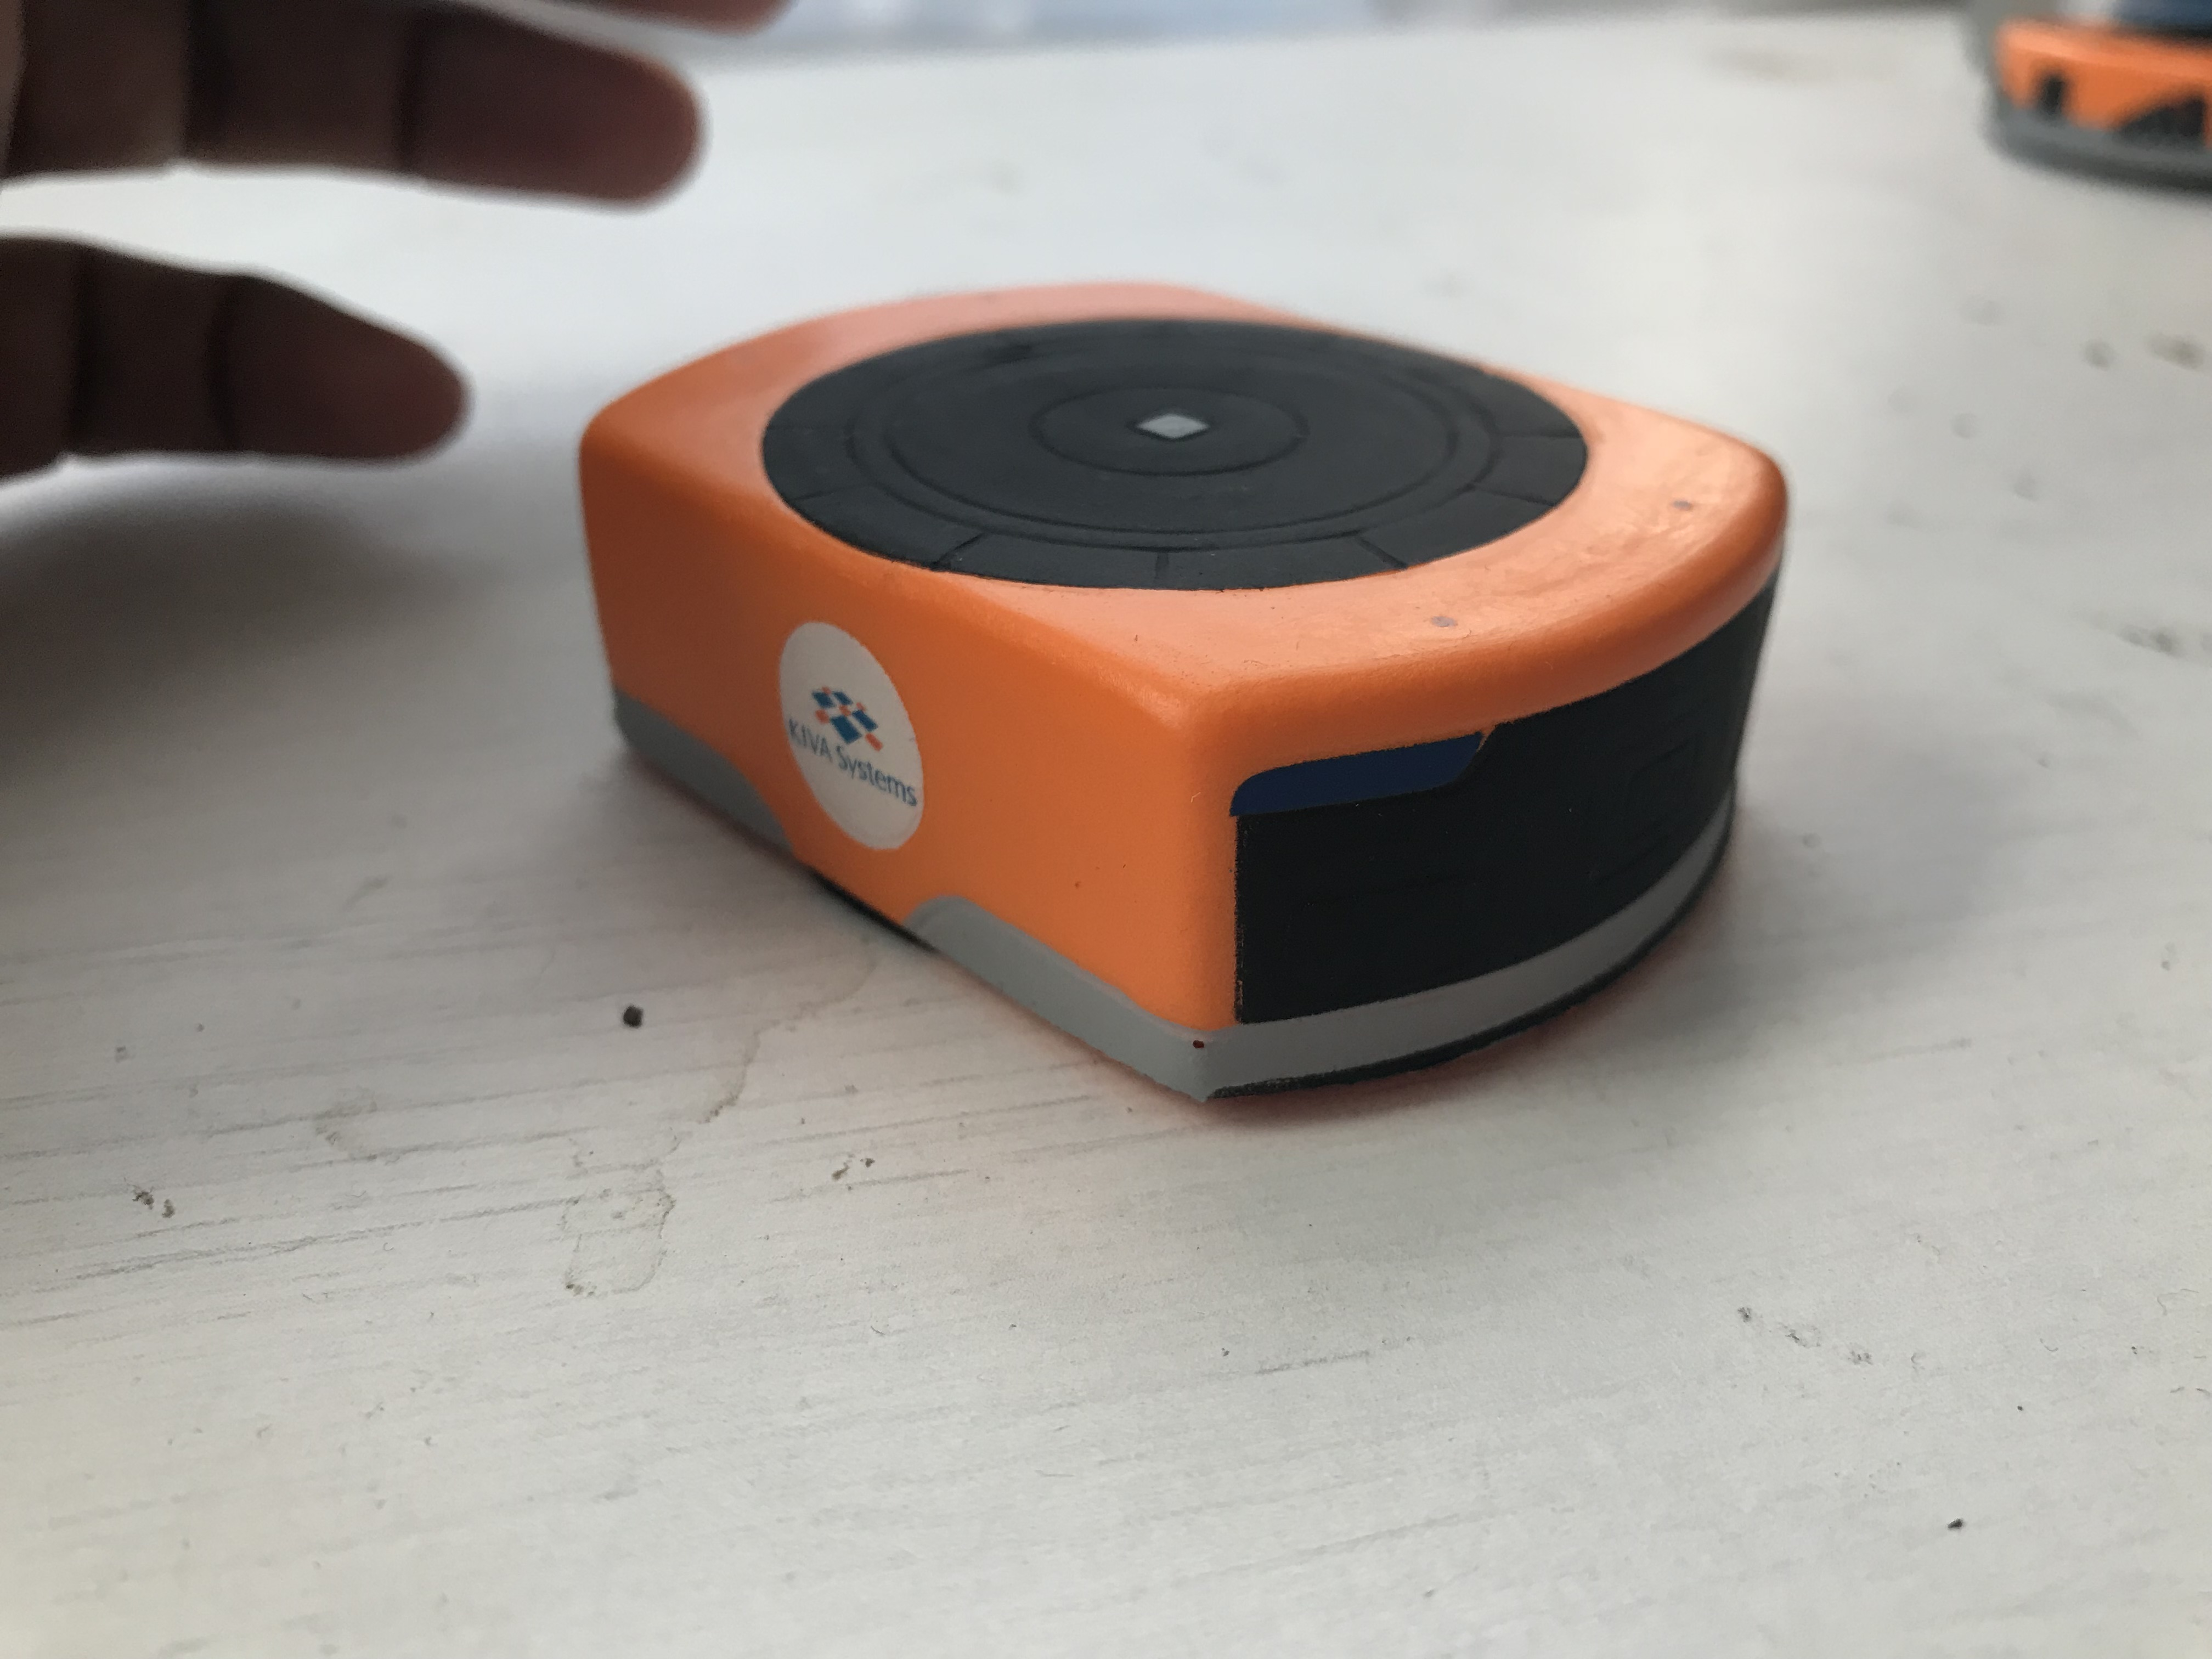amazon_bot: (563, 272, 1838, 1117)
